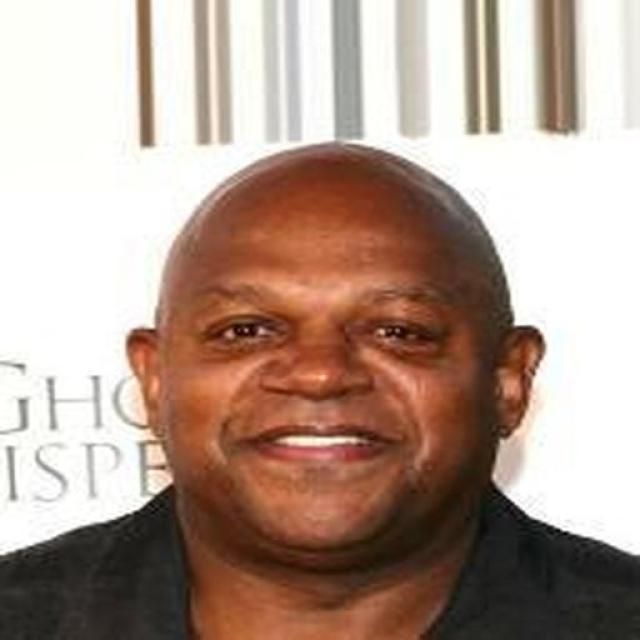bareface: (124, 117, 547, 547)
